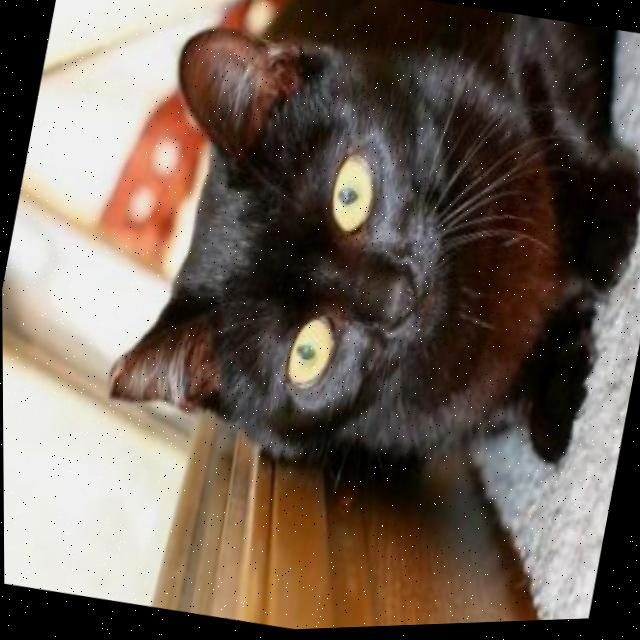Bombay: (87, 0, 640, 532)
